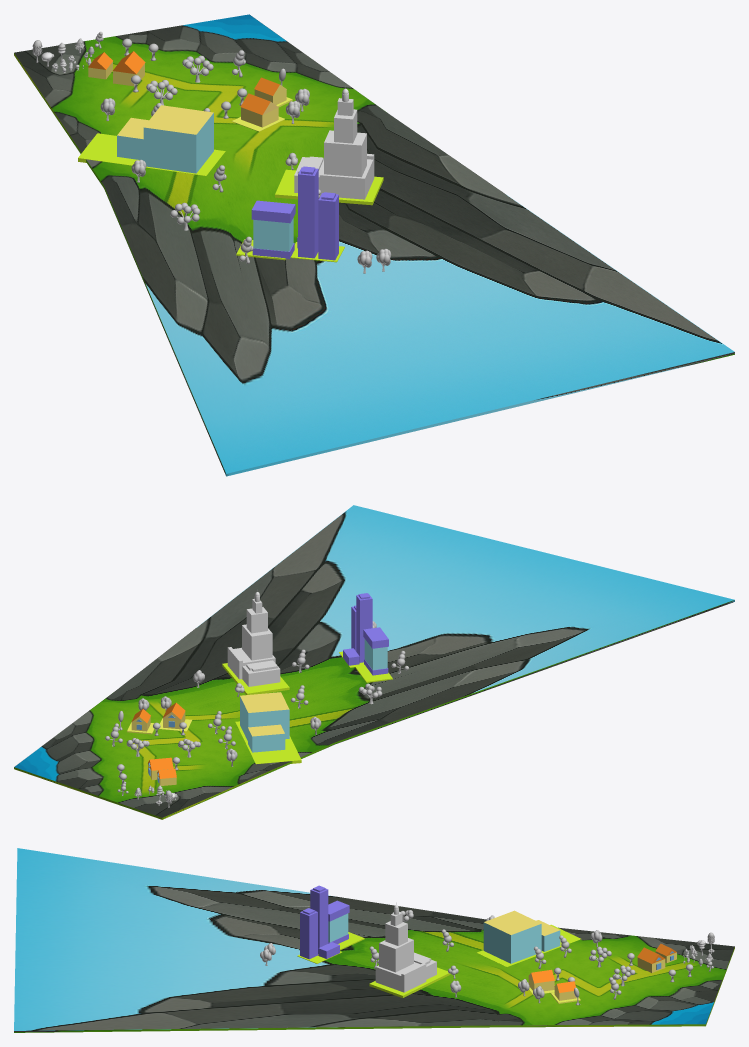
The model's file is Amerika2.fbx.
3 views of the same model, one above another, from view 1: azimuth 30°, elevation 25°; view 2: azimuth 150°, elevation 25°; view 3: azimuth 270°, elevation 25° (orthographic). The views are drawn at different scales.
Parts seen in each view (by area): view 1: Cube.023, Cube.008, Cube.003, Cube.020, Cube.009, Cube.004, Cube.016, Cube, Cube.010, Cube.017, Cube.001; view 2: Cube.023, Cube.008, Cube.010, Cube.020, Cube.003, Cube.009, Cube.018, Cube.016, Cube.017, Cube; view 3: Cube.023, Cube.008, Cube.016, Cube.020, Cube.004, Cube.003, Cube.017, Cube.010, Cube.021, Cube.009, Cube, Cube.001.
Boxes of the visible parts, <box> form: Cube.023: <box>14,14,734,476</box>; Cube.008: <box>143,105,213,173</box>; Cube.003: <box>298,166,318,258</box>; Cube.020: <box>324,130,366,177</box>; Cube.009: <box>78,133,225,175</box>; Cube.004: <box>318,192,338,260</box>; Cube.016: <box>319,153,374,199</box>; Cube: <box>253,218,293,251</box>; Cube.010: <box>117,117,148,160</box>; Cube.017: <box>275,169,383,205</box>; Cube.001: <box>251,200,295,223</box>; Cube.023: <box>14,505,734,819</box>; Cube.008: <box>240,692,289,740</box>; Cube.010: <box>248,724,285,752</box>; Cube.020: <box>242,624,272,660</box>; Cube.003: <box>356,593,372,662</box>; Cube.009: <box>235,721,301,764</box>; Cube.018: <box>242,662,280,686</box>; Cube.016: <box>227,647,275,679</box>; Cube.017: <box>222,663,289,694</box>; Cube: <box>364,639,387,670</box>; Cube.023: <box>14,848,734,1032</box>; Cube.008: <box>483,910,541,963</box>; Cube.016: <box>375,962,426,992</box>; Cube.020: <box>379,938,413,972</box>; Cube.004: <box>300,908,317,959</box>; Cube.003: <box>310,885,328,953</box>; Cube.017: <box>369,967,450,997</box>; Cube.010: <box>536,920,560,951</box>; Cube.021: <box>385,921,407,945</box>; Cube.009: <box>476,924,581,966</box>; Cube: <box>328,913,348,942</box>; Cube.001: <box>328,900,349,921</box>.
Size of the model in its own units: 5388 by 1152 by 8975.
